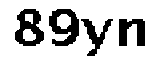8: (11, 8, 44, 49)
9: (47, 7, 82, 51)
n: (115, 15, 147, 50)
y: (81, 16, 115, 60)
